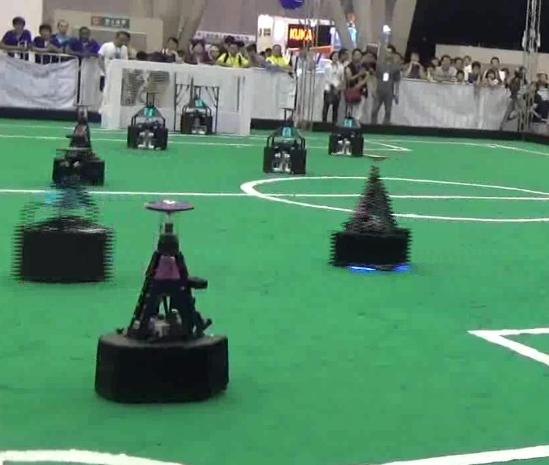robot: (93, 199, 236, 405), (10, 160, 122, 290), (325, 156, 417, 279), (44, 103, 114, 187), (257, 105, 310, 177), (123, 86, 173, 155), (325, 94, 375, 159), (175, 84, 218, 137)
